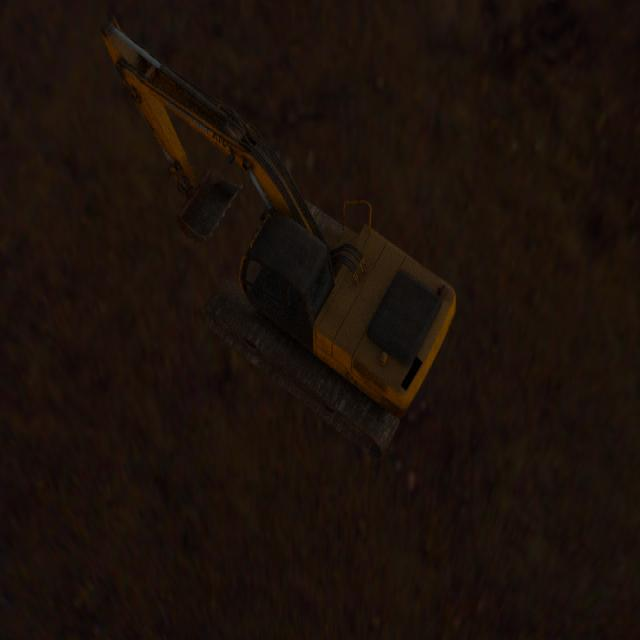excavator: (100, 13, 456, 460)
